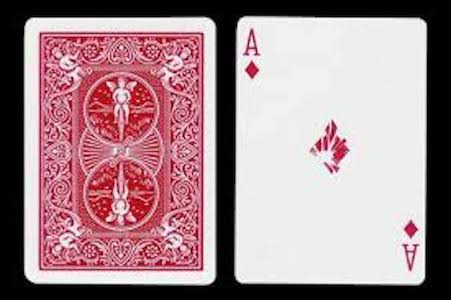AceOfDiamonds: (235, 15, 428, 288)
